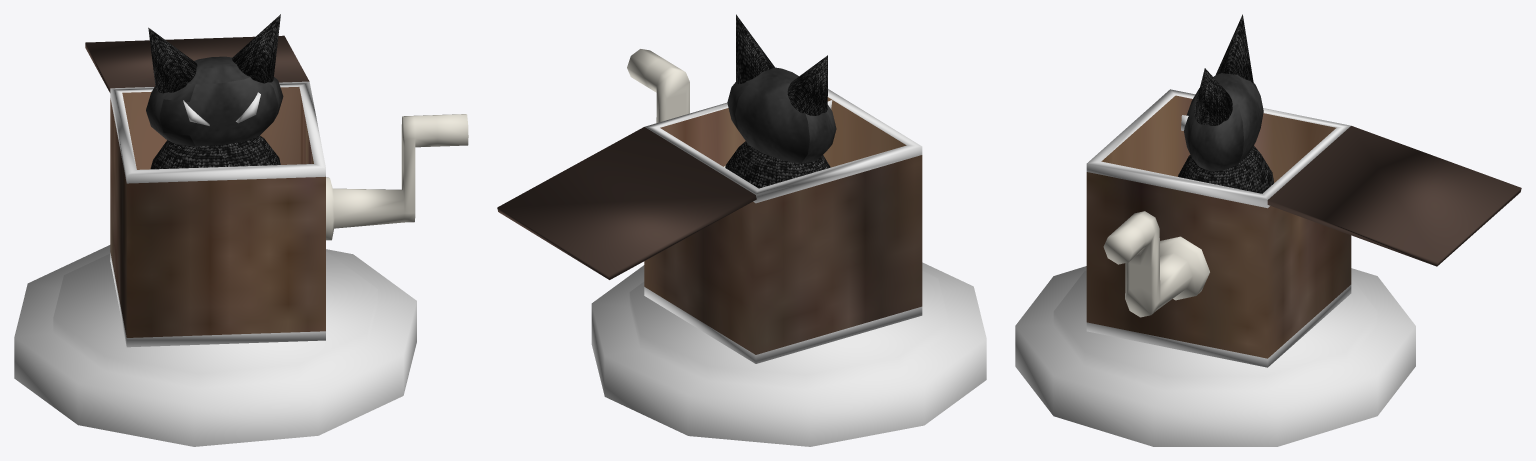
Rendered from Jackbox.fbx.
3 renders of one model, left to right at view 1: azimuth 30°, elevation 25°; view 2: azimuth 150°, elevation 25°; view 3: azimuth 270°, elevation 25°, orthographic. The views are drawn at different scales.
Visible parts, largest first — view 1: Jack Box, Stand; view 2: Jack Box, Stand; view 3: Jack Box, Stand.
Boxes of the visible parts, bbox=[...] form: Jack Box: bbox=[85, 14, 468, 347]; Stand: bbox=[14, 245, 416, 446]; Jack Box: bbox=[497, 14, 922, 363]; Stand: bbox=[591, 262, 986, 446]; Jack Box: bbox=[1086, 14, 1521, 367]; Stand: bbox=[1015, 266, 1415, 446].
Size of the model in its own units: 50.22 by 42.74 by 59.97.
Materials: 6 (3 with a texture image).
